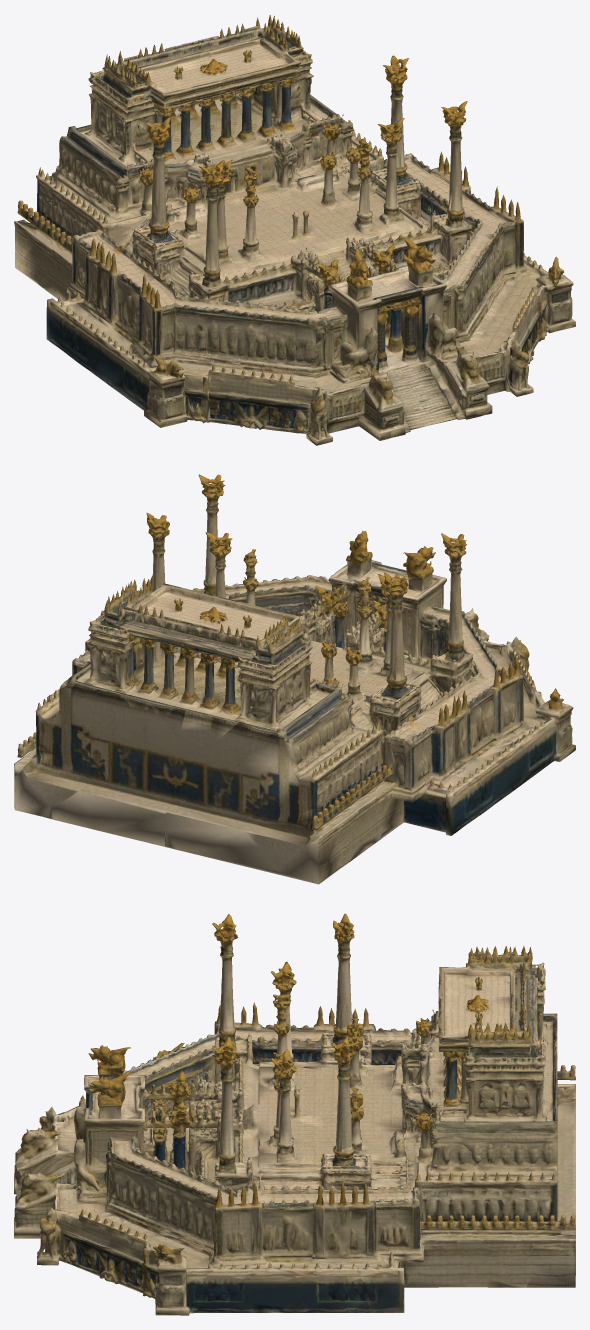
The model's file is EstakhrTerraces.glb.
The picture shows the model from 3 angles, top to bottom: view 1: azimuth 30°, elevation 25°; view 2: azimuth 150°, elevation 25°; view 3: azimuth 270°, elevation 25°; orthographic projection. The views are drawn at different scales.
Bounding box in the file's own units: 1.69 × 0.8637 × 1.9.
1 material, 1 textured.
